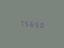five: (23, 19, 27, 27), (33, 20, 37, 28)
seven: (18, 18, 22, 27)
six: (28, 19, 32, 28)
zero: (38, 20, 42, 28)
